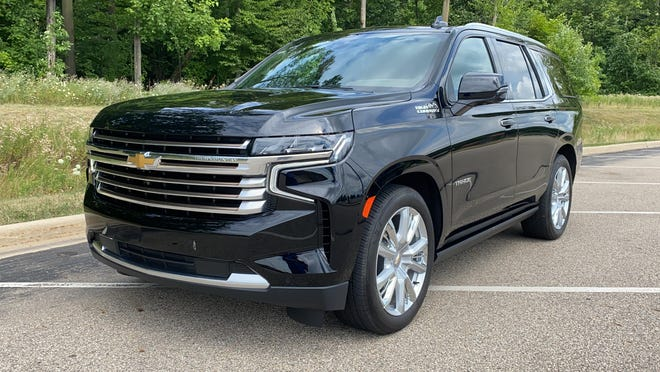car: (82, 20, 583, 335)
